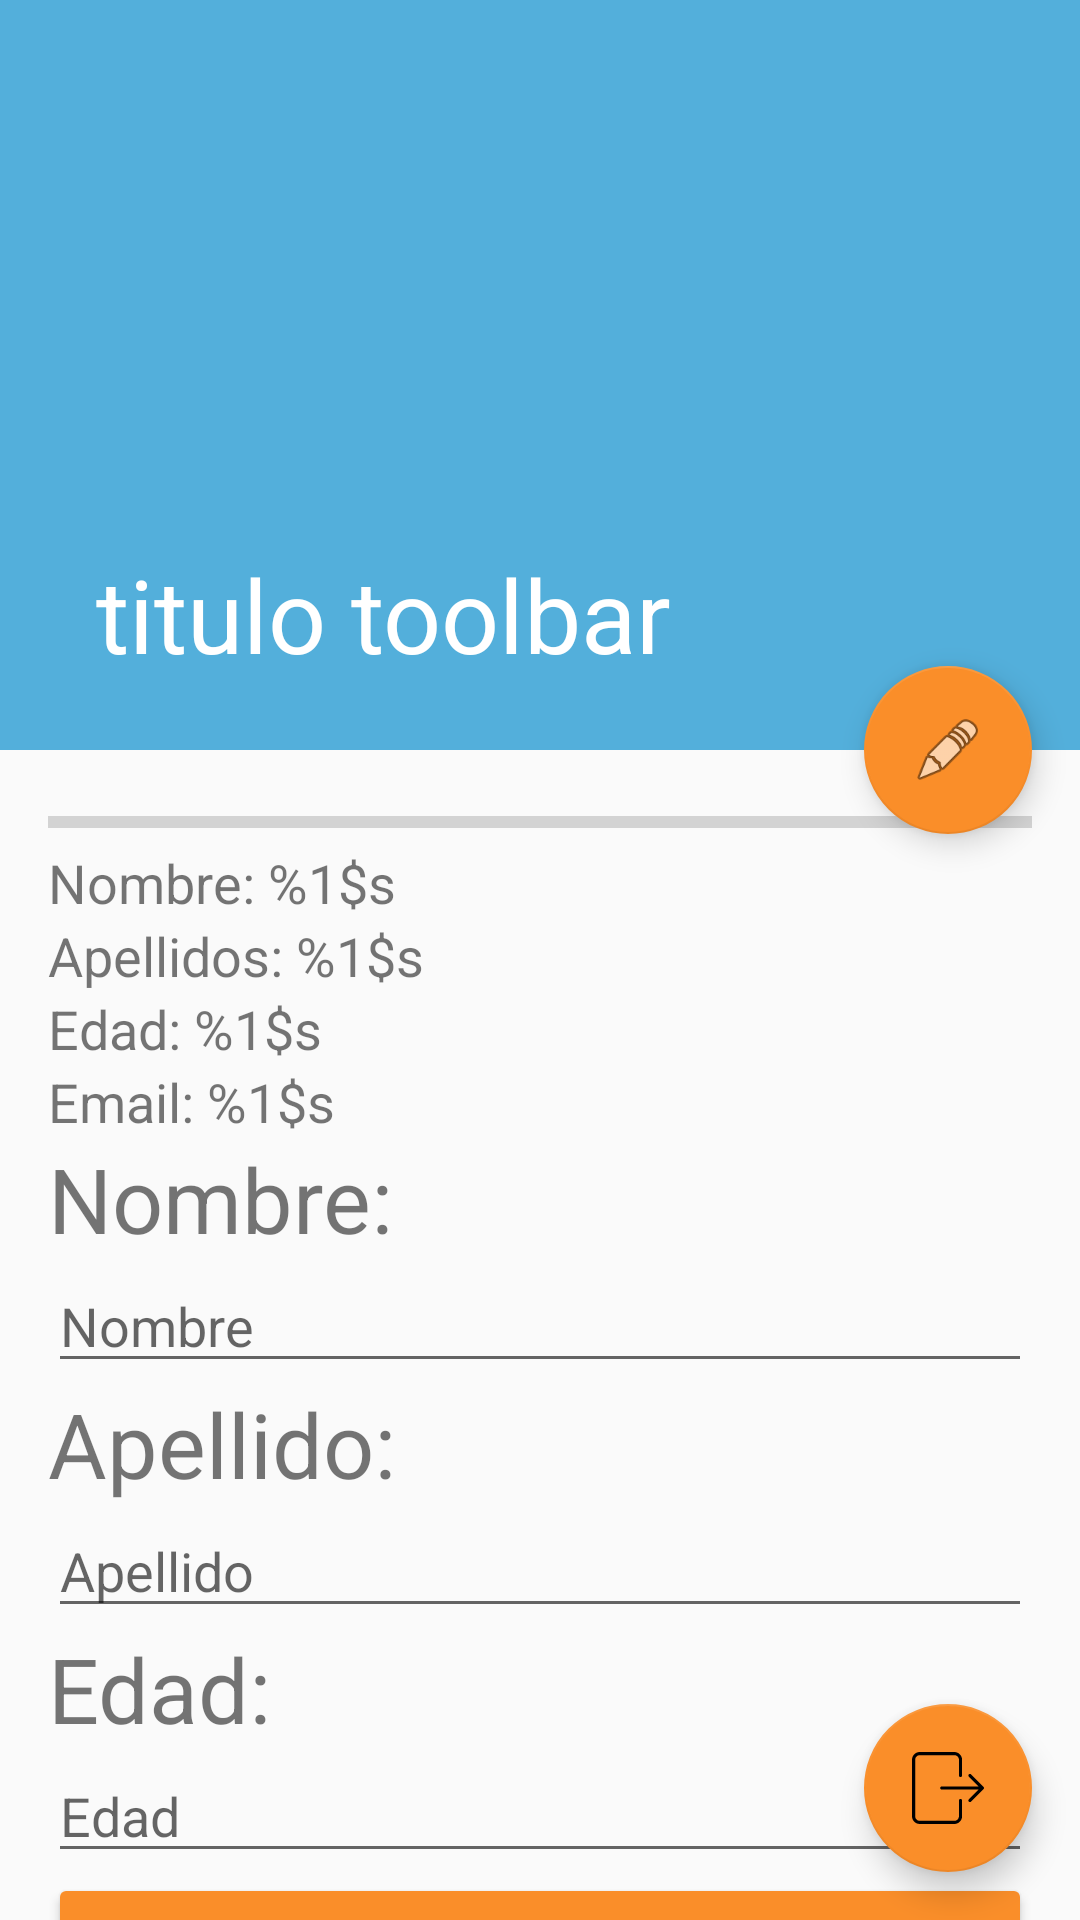

Icons on this 1080x1920 Android screen, each with the point to tap as point (x, y):
edit: point (948, 750)
